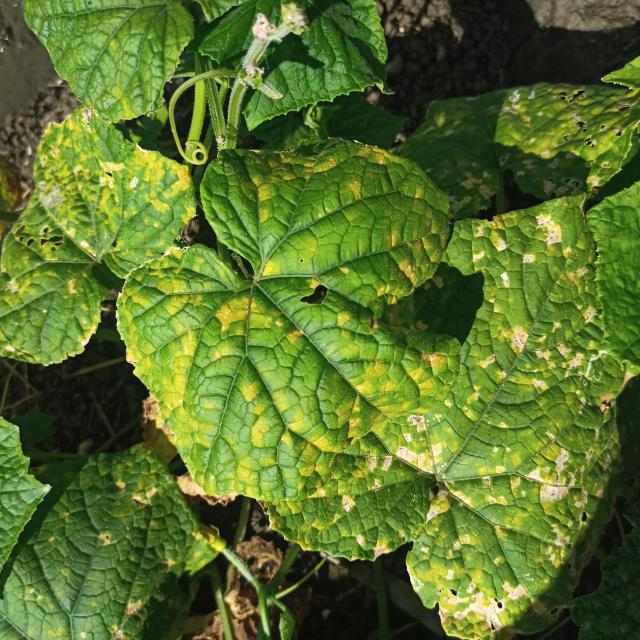disease_cucumber: (123, 143, 447, 496), (386, 226, 624, 631), (0, 115, 181, 345), (422, 93, 616, 219)
